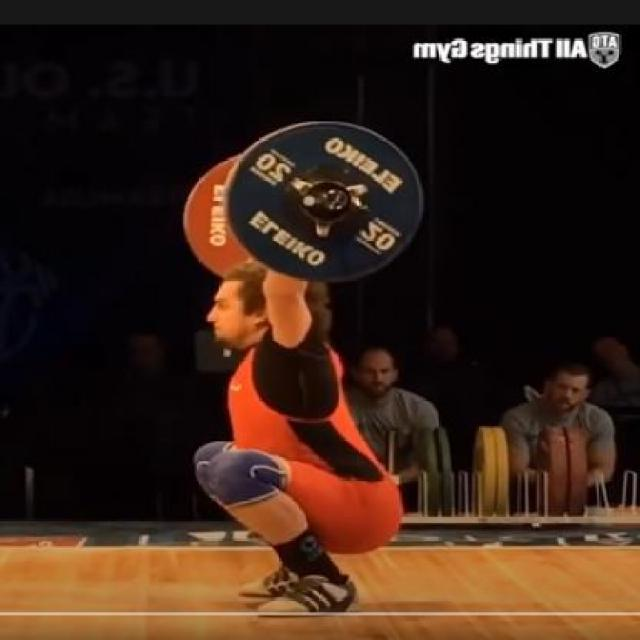Barbell: (316, 187, 352, 213)
